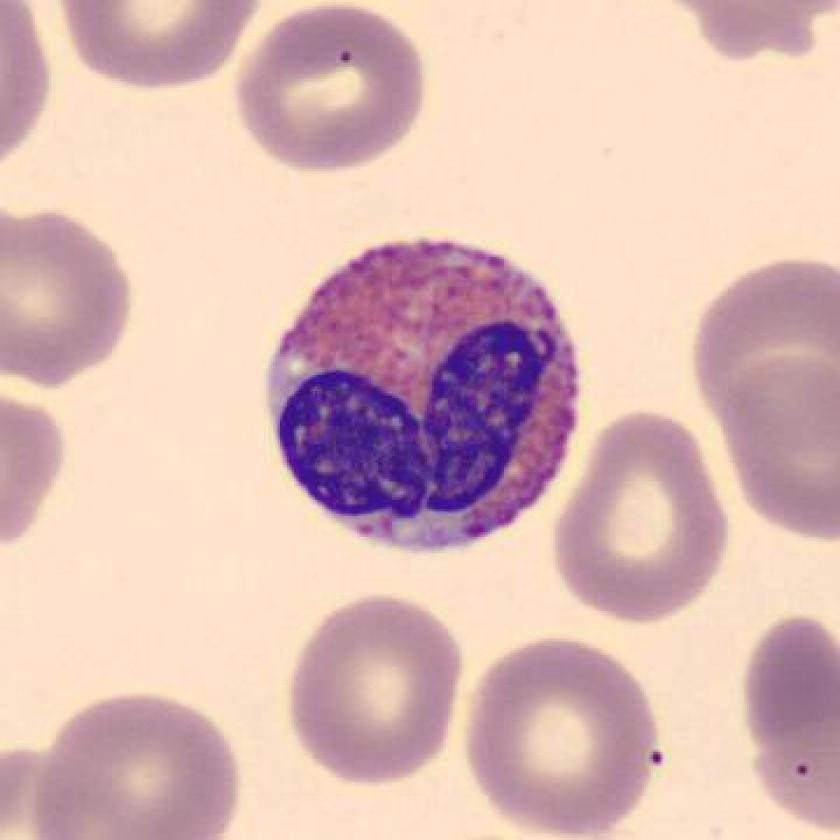eosinophil: (253, 228, 594, 566)
